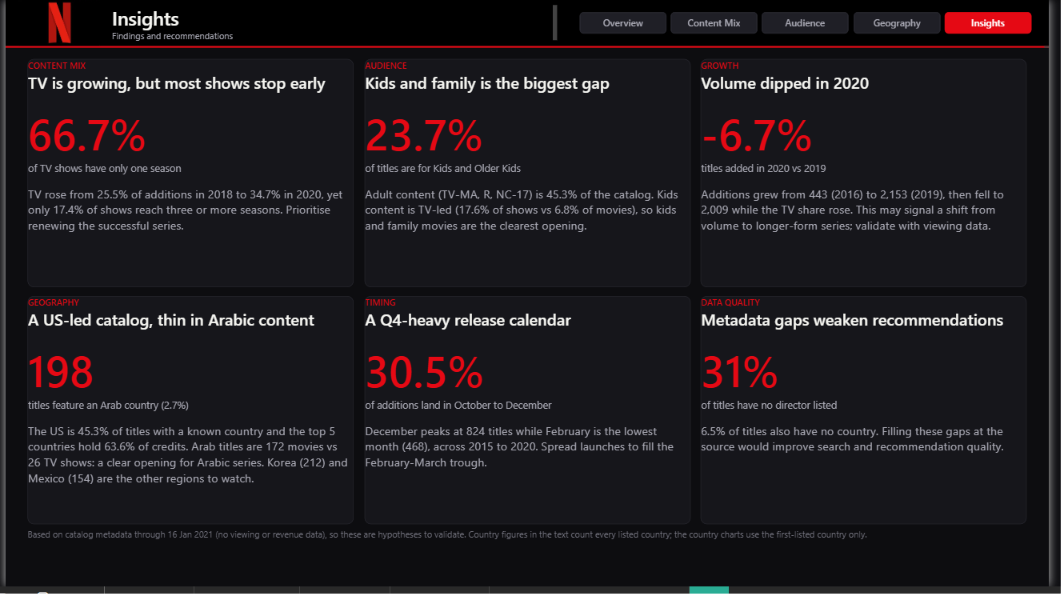

This screenshot's page, from the dashboard's own definition file:
{"tool":"powerbi","page":{"name":"Insights & Recommendations","canvas":[1920,1080],"ordinal":4},"visuals":[{"type":"textbox","box":[0,0,1920,84],"z":100},{"type":"textbox","box":[0,84,1920,3],"z":110},{"type":"image","box":[24,0,150,84],"z":120},{"type":"textbox","box":[196,10,820,66],"z":130},{"type":"actionButton","box":[1056,22,160,40],"z":140},{"type":"actionButton","box":[1224,22,160,40],"z":141},{"type":"actionButton","box":[1392,22,160,40],"z":142},{"type":"actionButton","box":[1560,22,160,40],"z":143},{"type":"actionButton","box":[1728,22,160,40],"z":144},{"type":"textbox","box":[40,108,600,420],"z":1000},{"type":"textbox","box":[660,108,600,420],"z":1001},{"type":"textbox","box":[1280,108,600,420],"z":1002},{"type":"textbox","box":[40,544,600,420],"z":1003},{"type":"textbox","box":[660,544,600,420],"z":1004},{"type":"textbox","box":[1280,544,600,420],"z":1005},{"type":"textbox","box":[40,972,1840,68],"z":1100}]}

Visuals, with their boxes in screenshot pixels (x1, y1, x2, y2), scaled from the page's 1920x1080 canvas onto the 1061x594 screenshot:
textbox: 0/0/1060/46
textbox: 0/46/1060/48
image: 13/0/96/46
textbox: 108/6/561/42
actionButton: 584/12/672/34
actionButton: 676/12/765/34
actionButton: 769/12/858/34
actionButton: 862/12/950/34
actionButton: 955/12/1043/34
textbox: 22/59/354/290
textbox: 365/59/696/290
textbox: 707/59/1039/290
textbox: 22/299/354/530
textbox: 365/299/696/530
textbox: 707/299/1039/530
textbox: 22/535/1039/572
